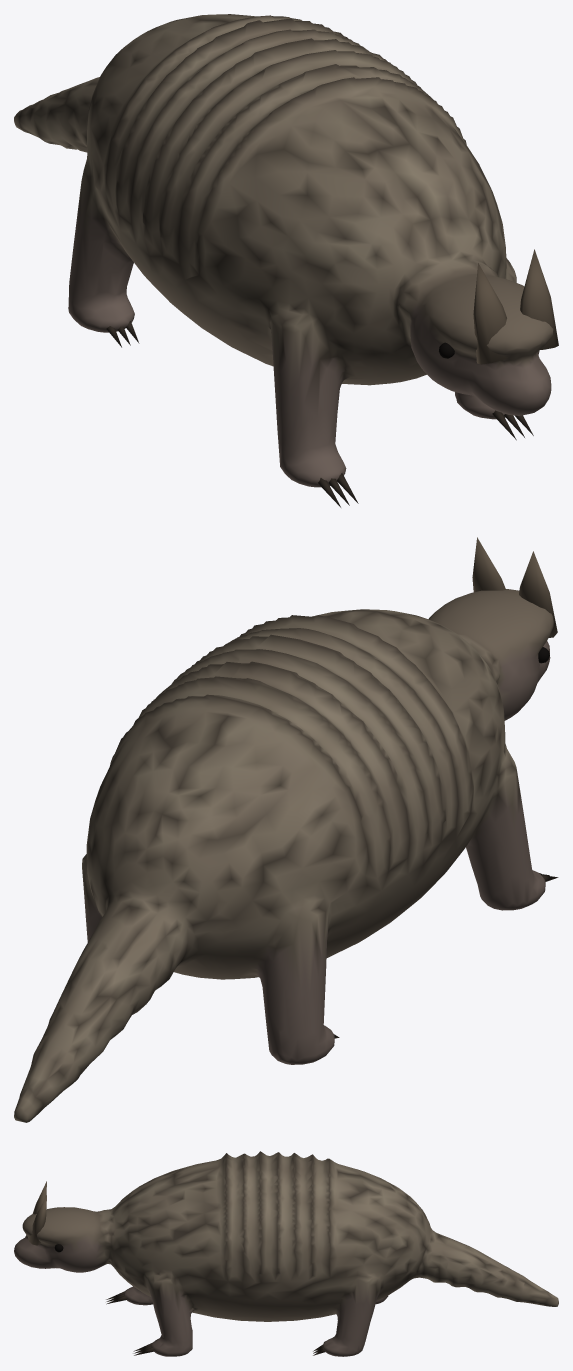
The model's file is PeltephilusFerox.fbx.
3 views of the same model, one above another, from view 1: azimuth 30°, elevation 25°; view 2: azimuth 150°, elevation 25°; view 3: azimuth 270°, elevation 25° (orthographic). The views are drawn at different scales.
Parts seen in each view (by area): view 1: PeltephilusFerox; view 2: PeltephilusFerox; view 3: PeltephilusFerox.
Boxes of the visible parts, x1=… form: PeltephilusFerox: x1=14, y1=14, x2=558, y2=507; PeltephilusFerox: x1=14, y1=537, x2=558, y2=1122; PeltephilusFerox: x1=14, y1=1151, x2=558, y2=1356.
Bounding box in the file's own units: 0.5068 × 0.5415 × 1.59.
